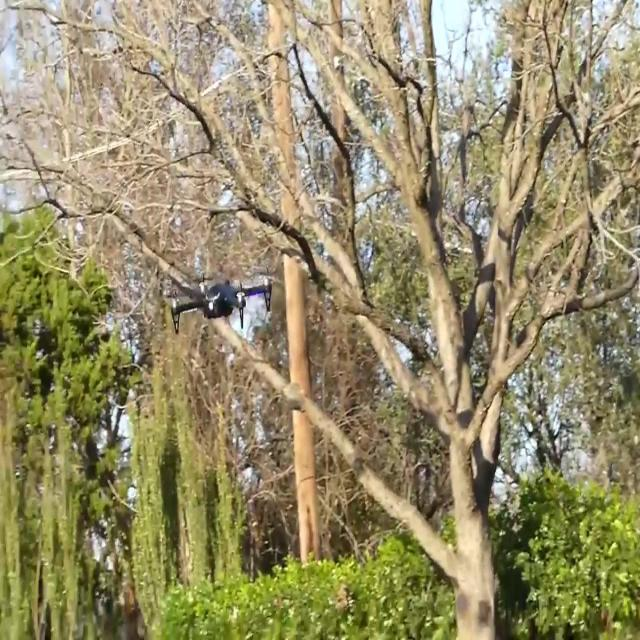UAV: (170, 273, 272, 335)
